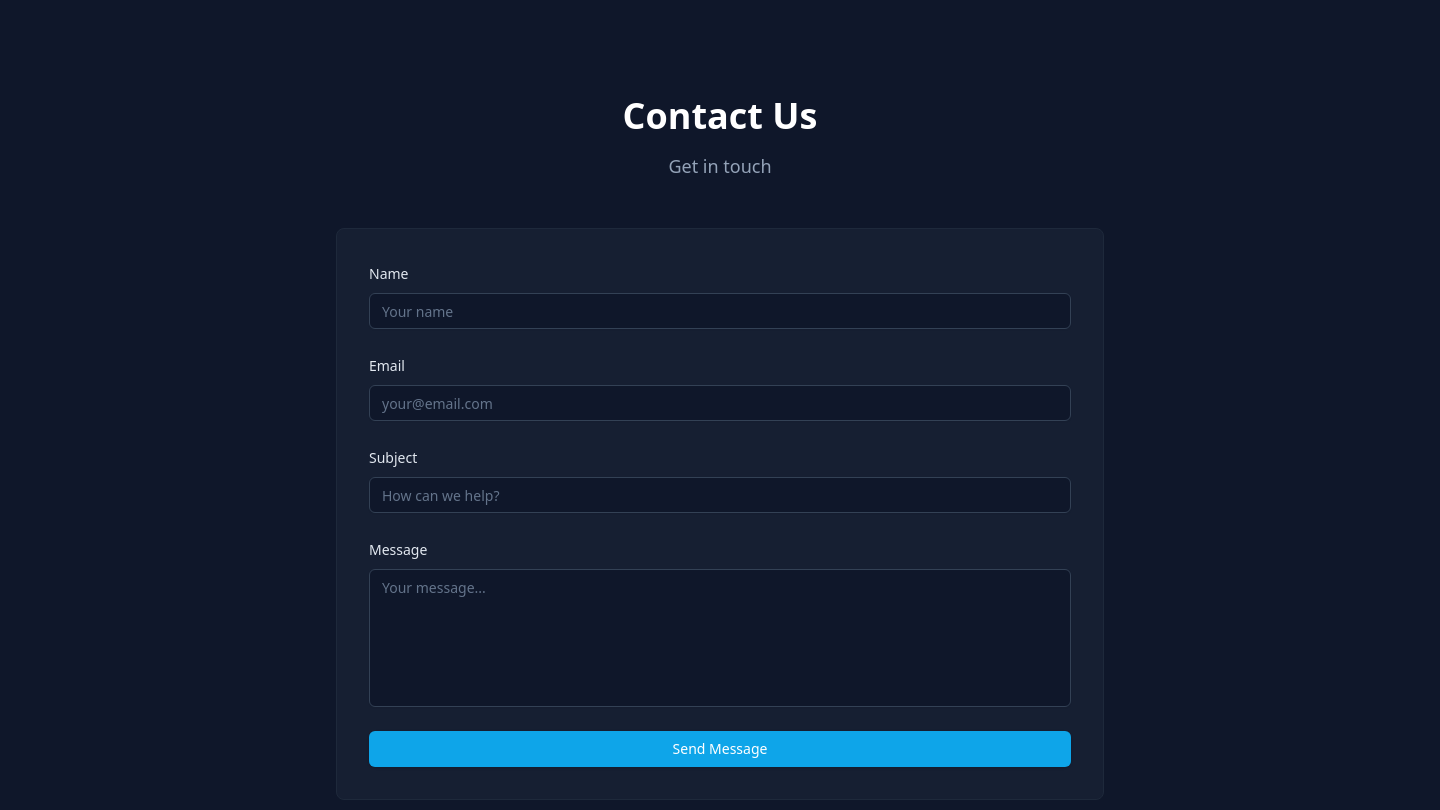
Test: ContactSection › should successfully submit form with valid data
The image size is (1440, 810).
Fill form with valid data
In the field labelled "Name": x=720, y=311 [369,293,1071,329], type "John Doe"
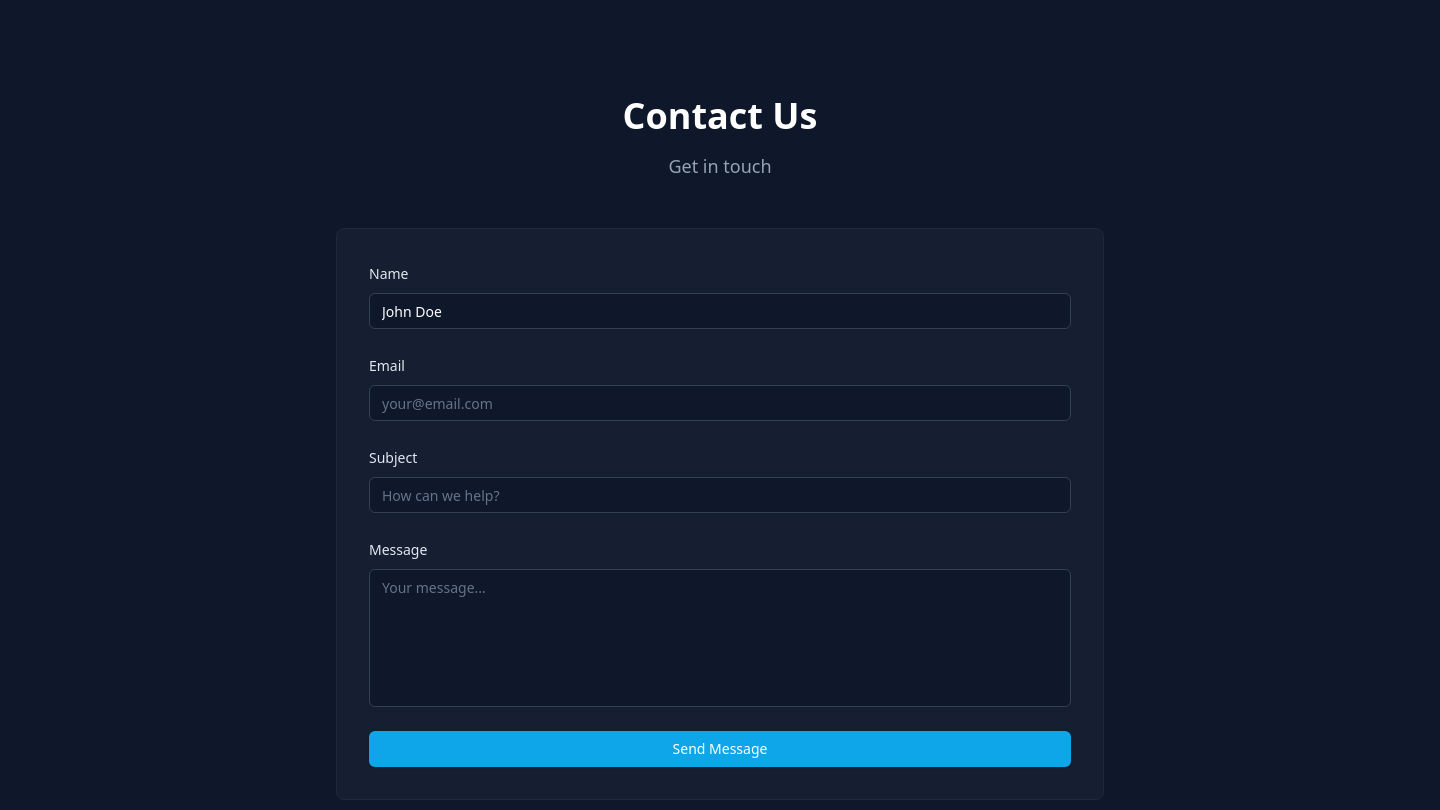
In the field labelled "Email": x=720, y=403 [369,385,1071,421], type "john@example.com"
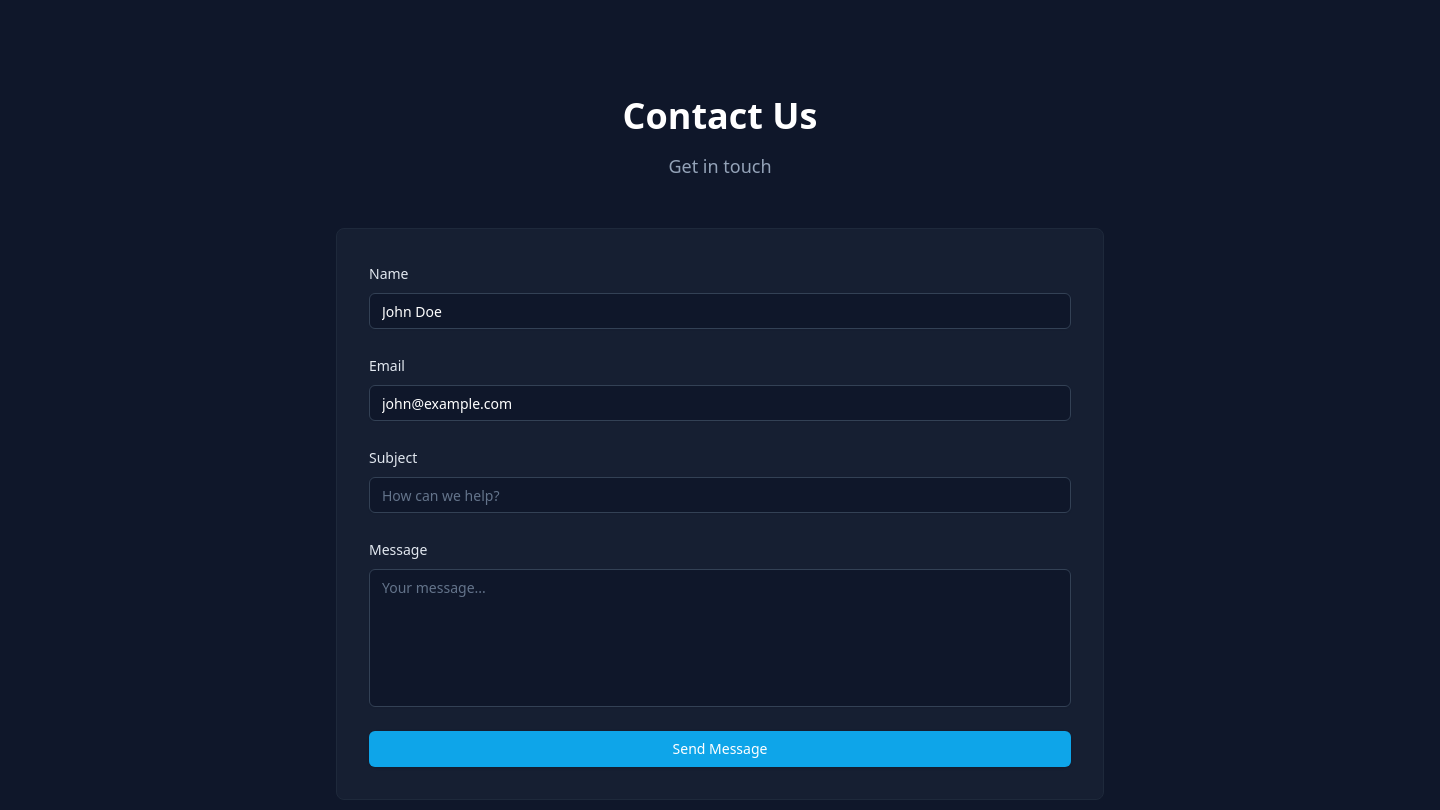
In the field labelled "Subject": x=720, y=495 [369,477,1071,513], type "Product Inquiry"
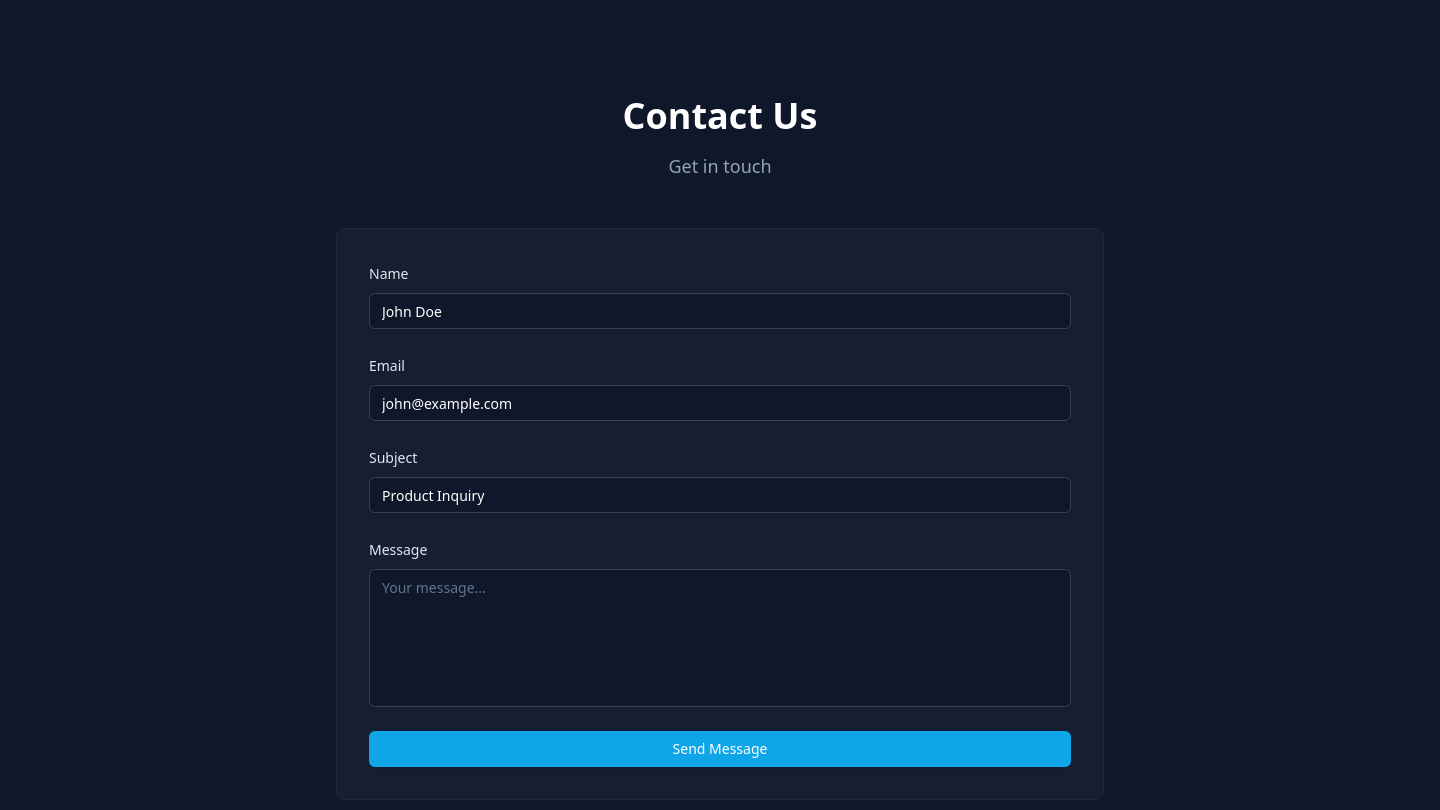
In the text box labelled "Message": x=720, y=638 [369,569,1071,707], type "I would like to know more about your VPN service."
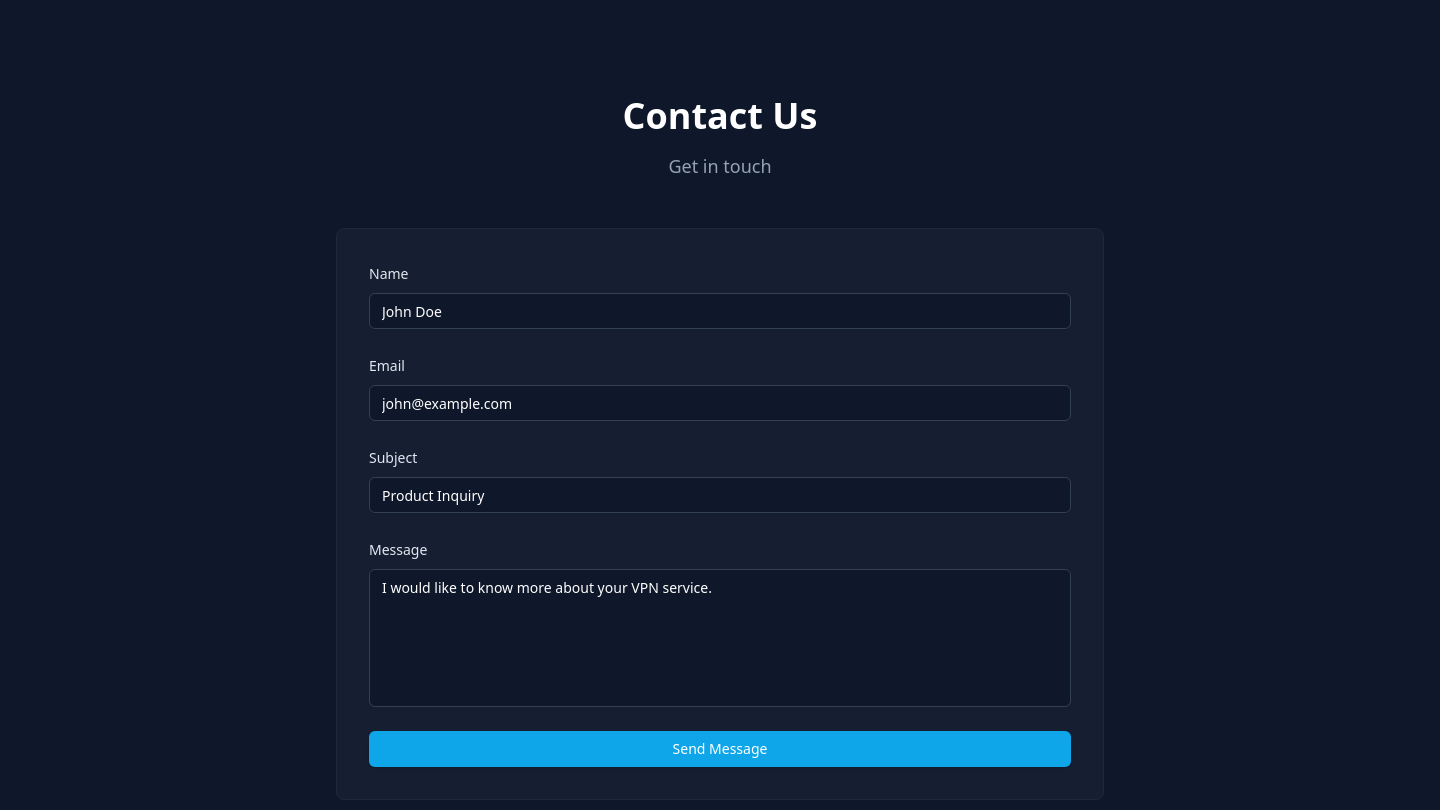
Submit form
Click the button "Send Message": x=720, y=749 [369,731,1071,767]
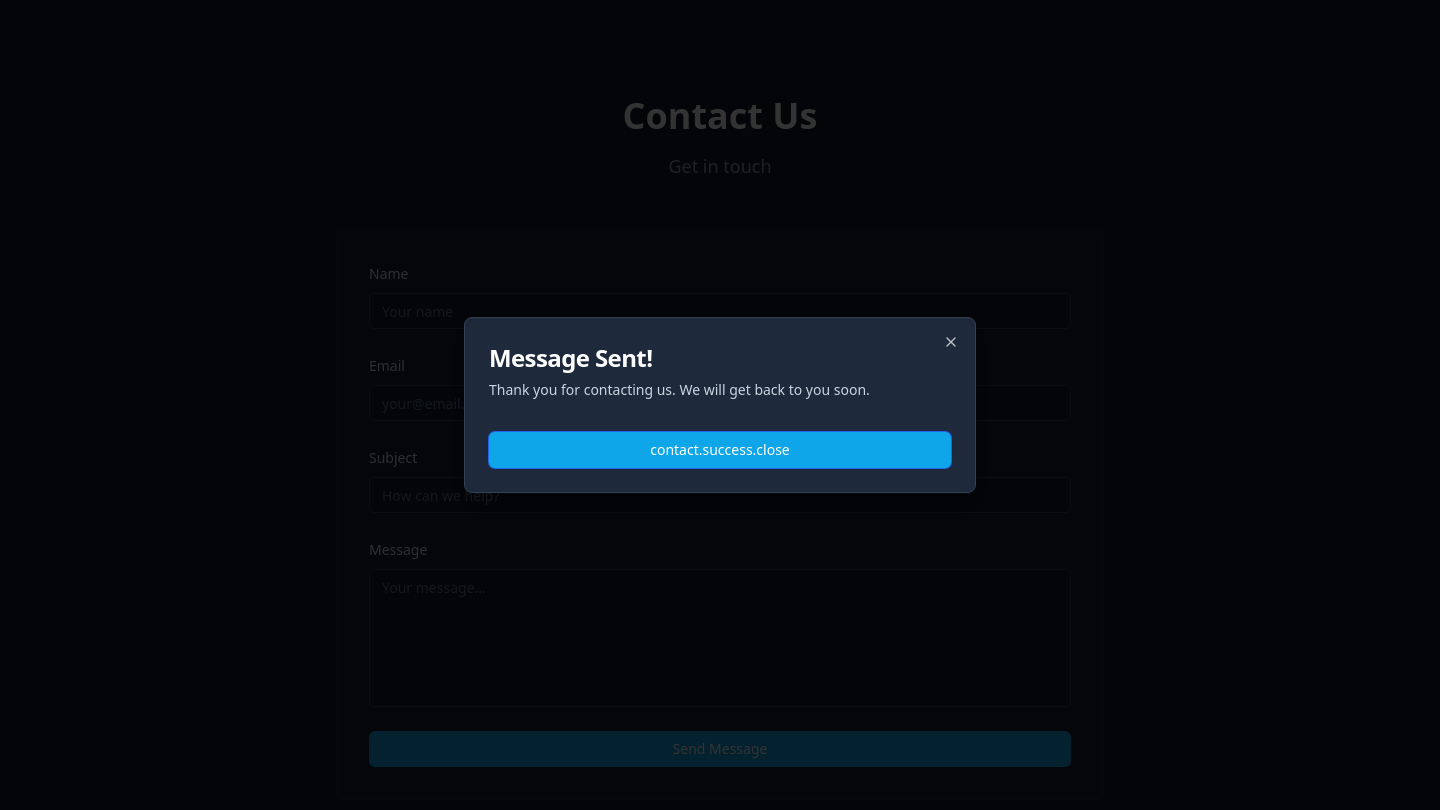
Now the heading "Message Sent!" is shown, box [489,341,652,374]
Now the text "Thank you for contacting us. We will get back to you soon." is shown, box [489,380,870,399]
